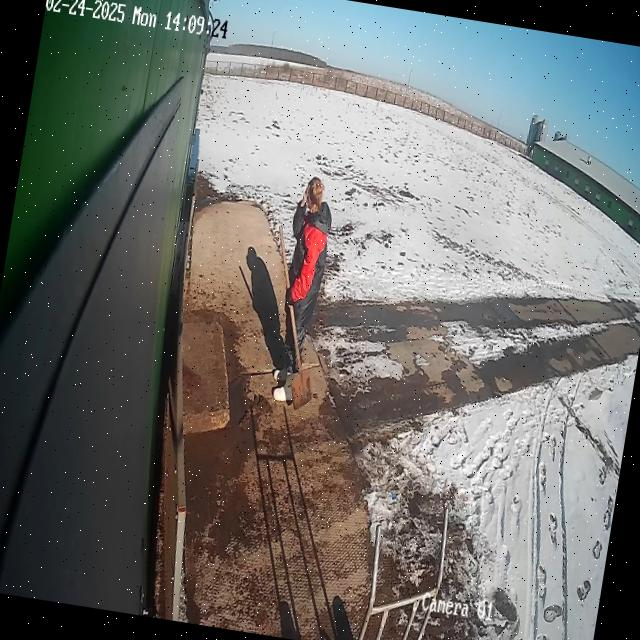Red uniform: (264, 173, 340, 392)
